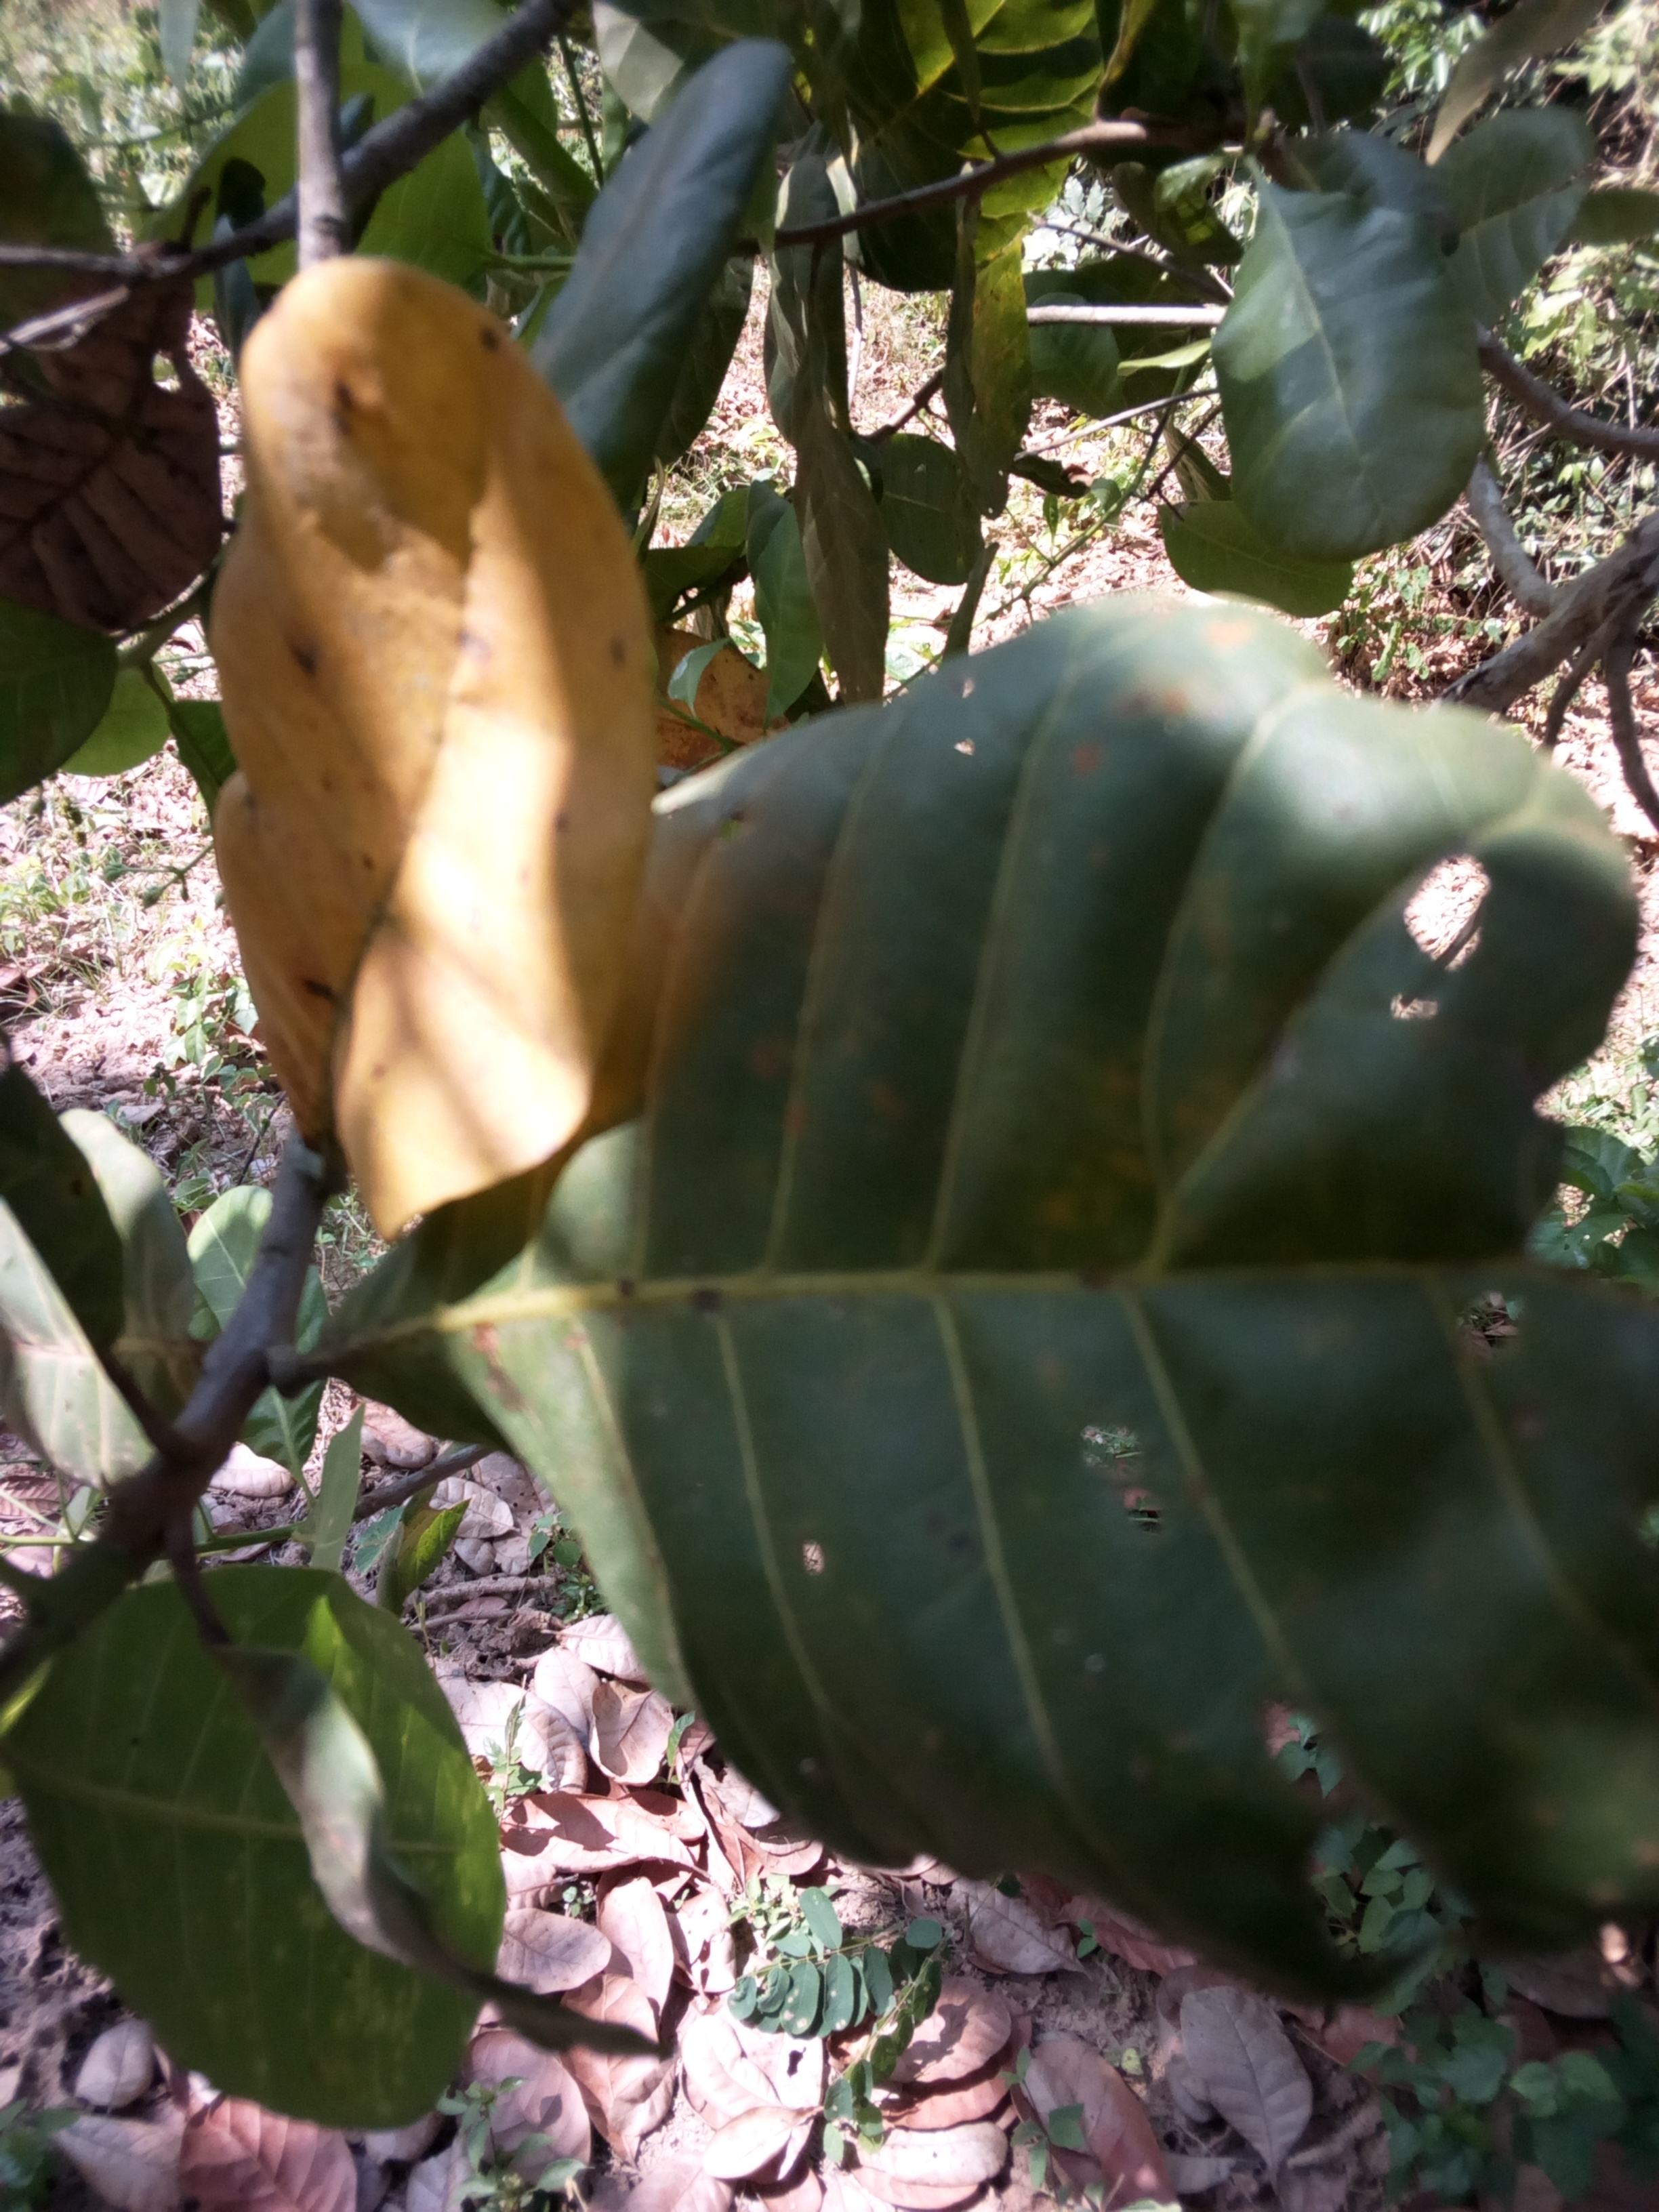Anoplonemis curvipes: (411, 568, 1659, 1930)
